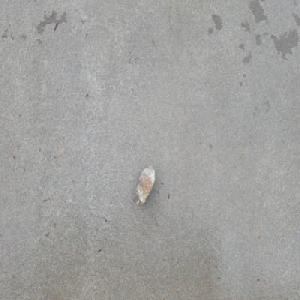Rock: (135, 163, 155, 208)
